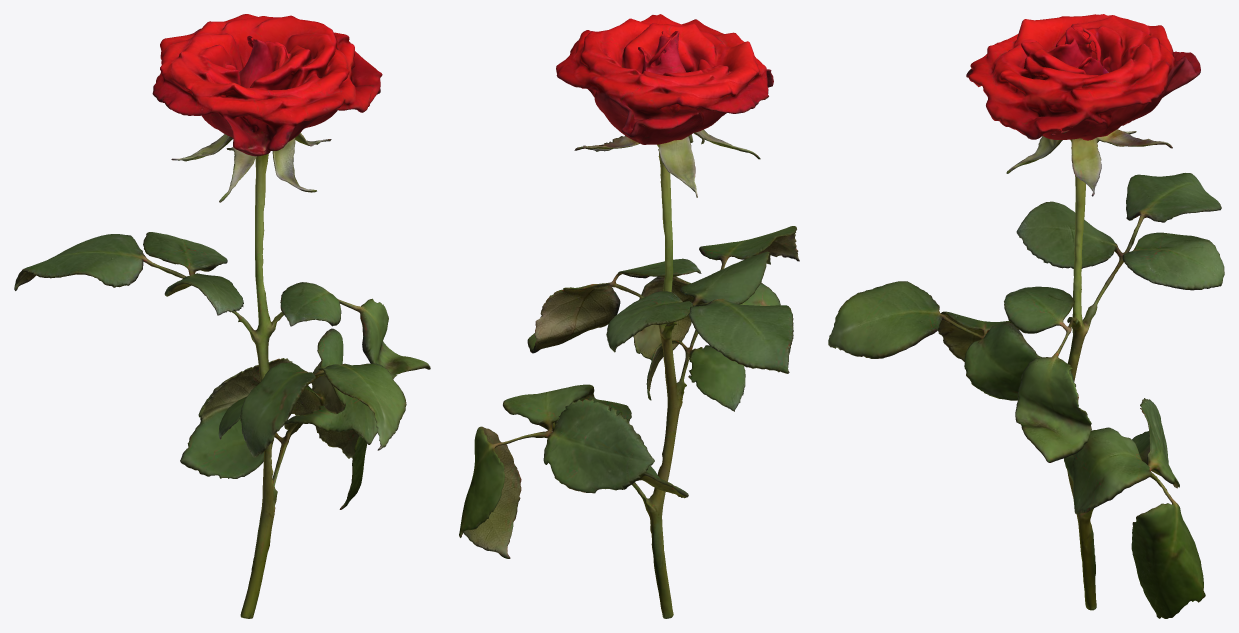
Rendered from RedRose.glb.
3 views of the same model, side by side, from view 1: azimuth 30°, elevation 25°; view 2: azimuth 150°, elevation 25°; view 3: azimuth 270°, elevation 25° (orthographic).
Parts seen in each view (by area): view 1: Object_2, Object_3; view 2: Object_2, Object_3; view 3: Object_2, Object_3.
Part boxes in pixels (x1,y1,x2,y2): Object_2: (14,39,430,618); Object_3: (100,14,394,496); Object_2: (459,31,799,618); Object_3: (538,14,773,478); Object_2: (828,27,1224,618); Object_3: (966,14,1207,488).
Size of the model in its own units: 1.51 by 2.5 by 1.54.
1 material, 1 textured.
